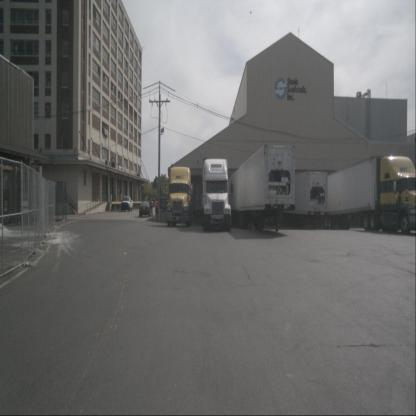human-pedestrian-adult: (150, 198, 154, 218), (155, 198, 159, 216)
vehicle-car: (139, 200, 151, 218)
vehicle-truck: (379, 156, 416, 233), (202, 158, 232, 230), (167, 166, 191, 228), (121, 196, 134, 212)
